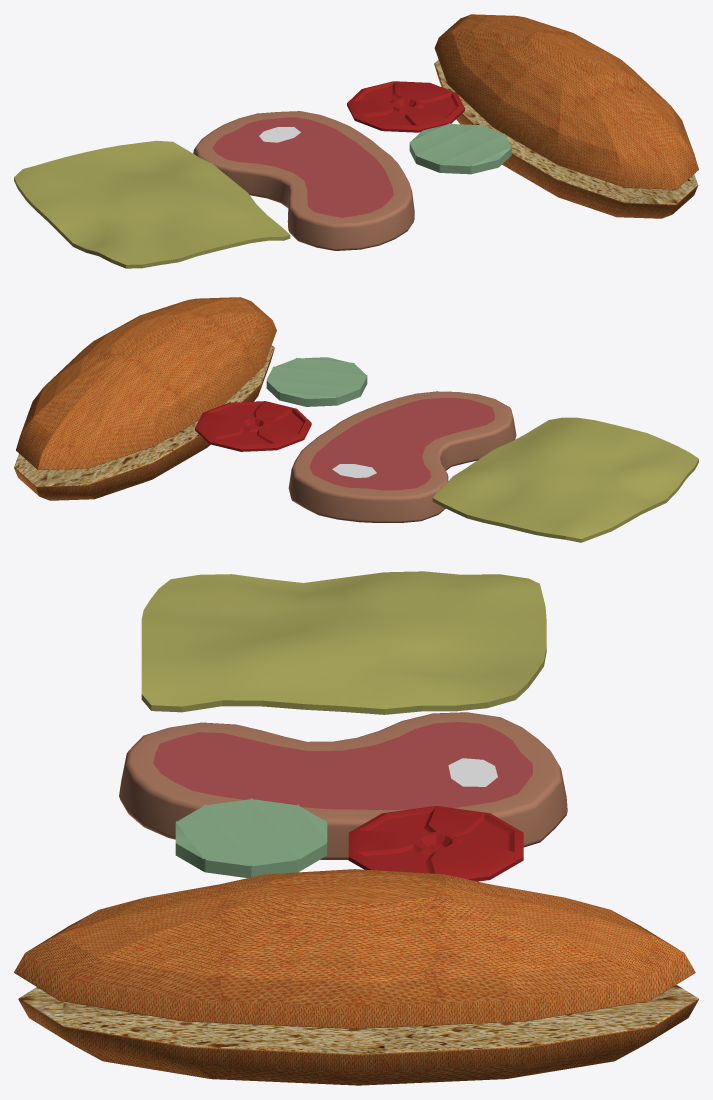
The model's file is foood.fbx.
3 renders of one model, top to bottom at view 1: azimuth 30°, elevation 25°; view 2: azimuth 150°, elevation 25°; view 3: azimuth 270°, elevation 25°, orthographic. The views are drawn at different scales.
Parts seen in each view (by area): view 1: Top_loaf, Cheese, Steak, Bottom_Loaf, Tomato, Piccles; view 2: Top_loaf, Cheese, Steak, Bottom_Loaf, Tomato, Piccles; view 3: Top_loaf, Cheese, Steak, Bottom_Loaf, Tomato, Piccles.
Part boxes in pixels (x1,y1,x2,y2): Top_loaf: [434, 14, 698, 189]; Cheese: [14, 140, 290, 268]; Steak: [193, 111, 414, 250]; Bottom_Loaf: [434, 60, 698, 218]; Tomato: [347, 81, 464, 132]; Piccles: [409, 123, 511, 174]; Top_loaf: [16, 297, 276, 470]; Cheese: [432, 417, 698, 542]; Steak: [288, 391, 516, 522]; Bottom_Loaf: [14, 345, 274, 500]; Tomato: [195, 401, 311, 451]; Piccles: [266, 357, 367, 406]; Top_loaf: [14, 869, 695, 1028]; Cheese: [141, 571, 546, 714]; Steak: [119, 712, 567, 859]; Bottom_Loaf: [18, 985, 698, 1085]; Tomato: [348, 806, 523, 881]; Piccles: [175, 798, 327, 878].
Bounding box in the file's own units: 0.153 × 0.0272 × 0.1.
Materials: 8 (2 with a texture image).
